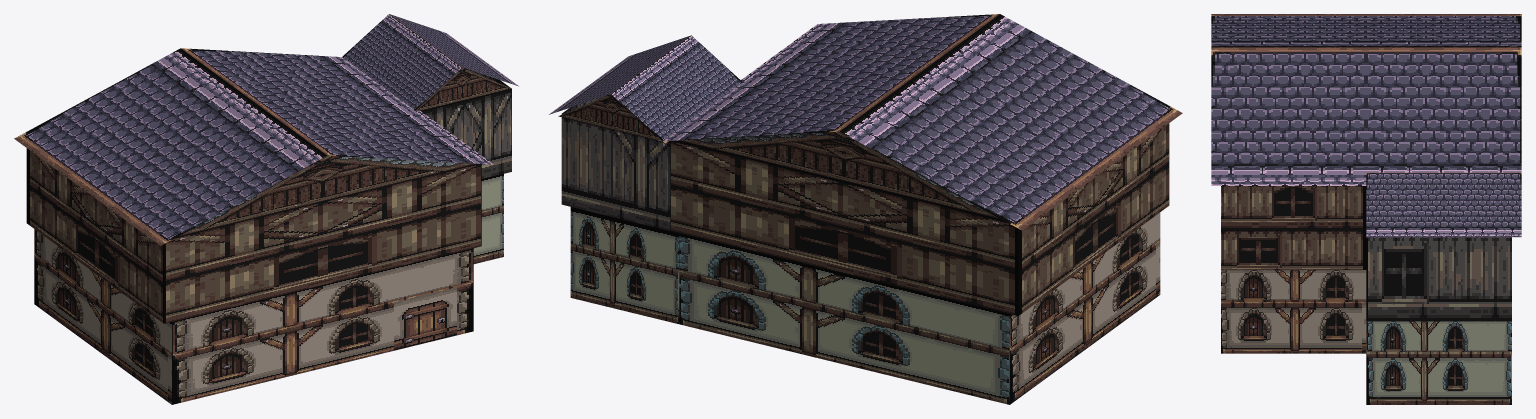
The model's file is house_medium.glb.
The picture shows the model from 3 angles, left to right: view 1: azimuth 30°, elevation 25°; view 2: azimuth 150°, elevation 25°; view 3: azimuth 270°, elevation 25°; orthographic projection. The views are drawn at different scales.
Parts seen in each view (by area): view 1: House_Roof_Left, House_Upper_Front, House_Ground_Front, House_Roof_Right, House_Ground_Left, House_Upper_Left, House_Gable_Front, House_Wing_Roof_Left, House_Wing_Upper_Front, House_Wing_Ground_Front, House_Wing_Roof_Right, House_Wing_Gable; view 2: House_Roof_Left, House_Upper_Back, House_Ground_Back, House_Roof_Right, House_Ground_Left, House_Upper_Left, House_Wing_Ground_Back, House_Wing_Upper_Back, House_Gable_Back, House_Wing_Roof_Left, House_Wing_Roof_Right, House_Wing_Gable.001; view 3: House_Roof_Right, House_Wing_Upper_Right, House_Ground_Right_Front, House_Wing_Ground_Right, House_Upper_Right_Front, House_Roof_Left, House_Wing_Roof_Right.
Part boxes in pixels (bbox=[...]): House_Roof_Left: bbox=[14, 48, 326, 245]; House_Upper_Front: bbox=[164, 164, 481, 323]; House_Ground_Front: bbox=[172, 248, 473, 404]; House_Roof_Right: bbox=[181, 48, 493, 164]; House_Ground_Left: bbox=[34, 229, 171, 404]; House_Upper_Left: bbox=[26, 148, 163, 323]; House_Gable_Front: bbox=[176, 155, 477, 237]; House_Wing_Roof_Left: bbox=[342, 14, 462, 110]; House_Wing_Upper_Front: bbox=[421, 89, 511, 178]; House_Wing_Ground_Front: bbox=[473, 174, 503, 263]; House_Wing_Roof_Right: bbox=[389, 14, 518, 86]; House_Wing_Gable: bbox=[416, 68, 511, 110]; House_Roof_Left: bbox=[840, 14, 1182, 230]; House_Upper_Back: bbox=[670, 140, 1018, 315]; House_Ground_Back: bbox=[679, 233, 1009, 404]; House_Roof_Right: bbox=[657, 14, 999, 141]; House_Ground_Left: bbox=[1009, 212, 1160, 404]; House_Upper_Left: bbox=[1018, 123, 1169, 315]; House_Wing_Ground_Back: bbox=[570, 207, 679, 323]; House_Wing_Upper_Back: bbox=[561, 113, 670, 230]; House_Gable_Back: bbox=[673, 131, 1004, 221]; House_Wing_Roof_Left: bbox=[611, 35, 742, 143]; House_Wing_Roof_Right: bbox=[549, 35, 690, 114]; House_Wing_Gable.001: bbox=[558, 94, 662, 141]; House_Roof_Right: bbox=[1211, 47, 1521, 185]; House_Wing_Upper_Right: bbox=[1366, 237, 1511, 321]; House_Ground_Right_Front: bbox=[1221, 270, 1366, 353]; House_Wing_Ground_Right: bbox=[1366, 321, 1511, 404]; House_Upper_Right_Front: bbox=[1221, 186, 1366, 269]; House_Roof_Left: bbox=[1211, 14, 1521, 47]; House_Wing_Roof_Right: bbox=[1366, 172, 1521, 237].
Size of what is drawn, in the model's own units: 10.9 by 5.2 by 6.4.
2 materials, 2 textured.
